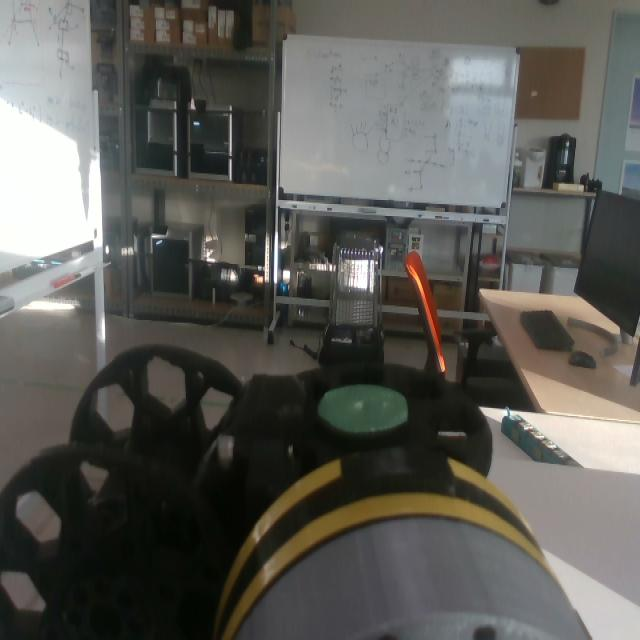body_connector: (229, 516, 591, 640)
connection: (211, 447, 592, 640)
leg: (0, 345, 544, 640)
leg_connector: (213, 445, 547, 640)
marker: (318, 385, 409, 432)
